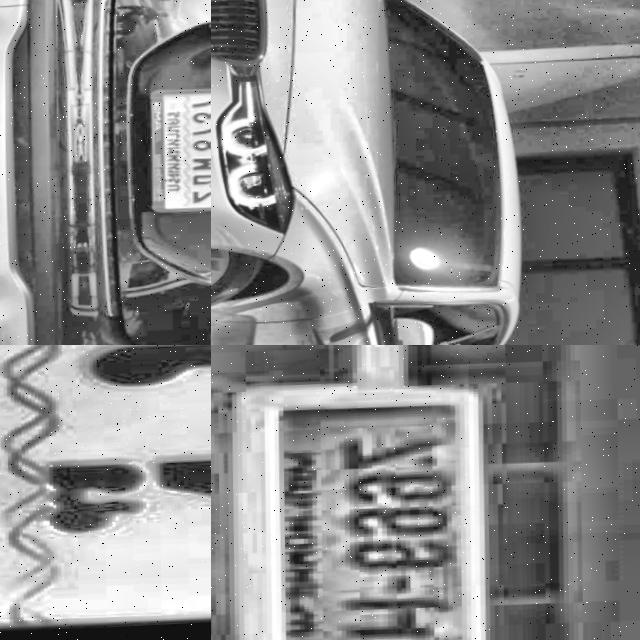license-plate: (211, 369, 525, 640), (0, 345, 211, 640), (142, 87, 211, 217)
